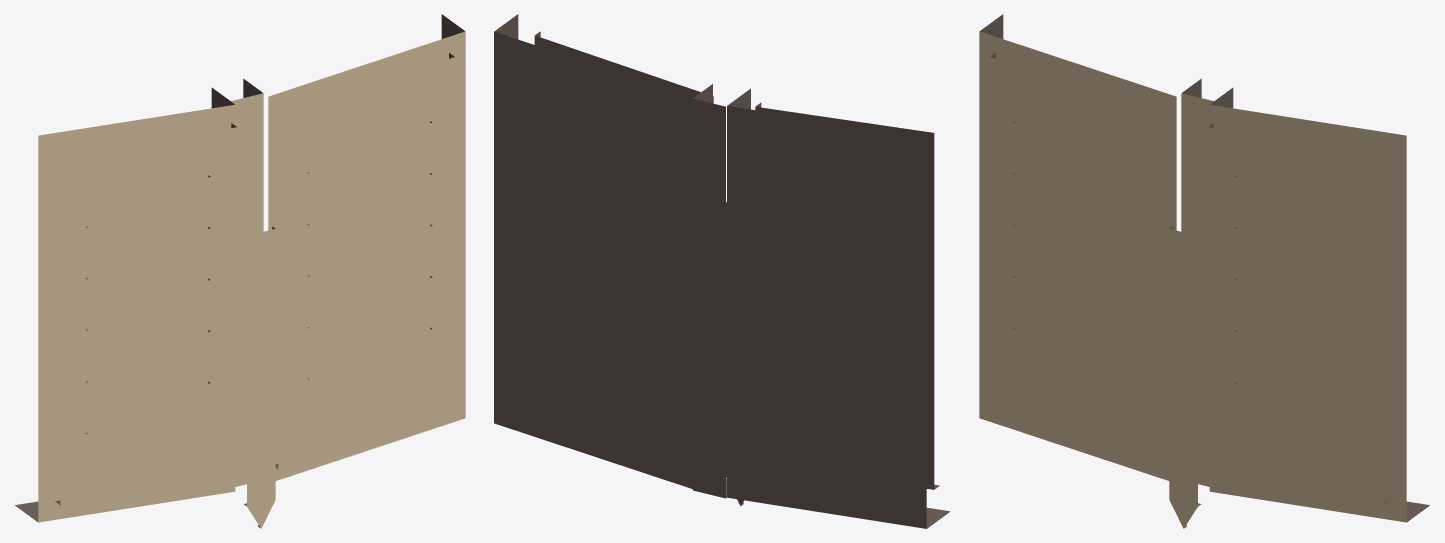
File: summaries.glb
The picture shows the model from 3 angles, left to right: view 1: azimuth 30°, elevation 25°; view 2: azimuth 150°, elevation 25°; view 3: azimuth 330°, elevation 25°; orthographic projection.
Visible parts, largest first — view 1: showcase_icon_summaries; view 2: showcase_icon_summaries; view 3: showcase_icon_summaries.
Part boxes in pixels (x1,y1,x2,y2): showcase_icon_summaries: (15,14,465,528); showcase_icon_summaries: (494,14,950,528); showcase_icon_summaries: (979,14,1429,528).
Size of the model in its own units: 1.04 by 1.02 by 0.145.
